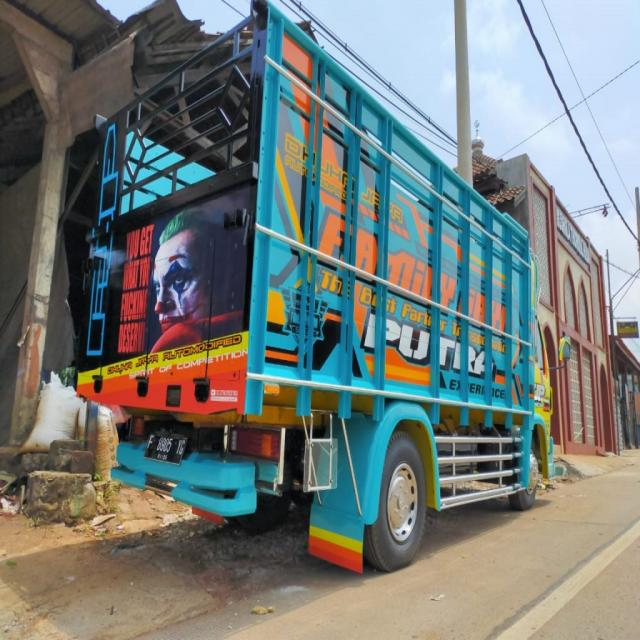truck: (37, 0, 573, 577)
